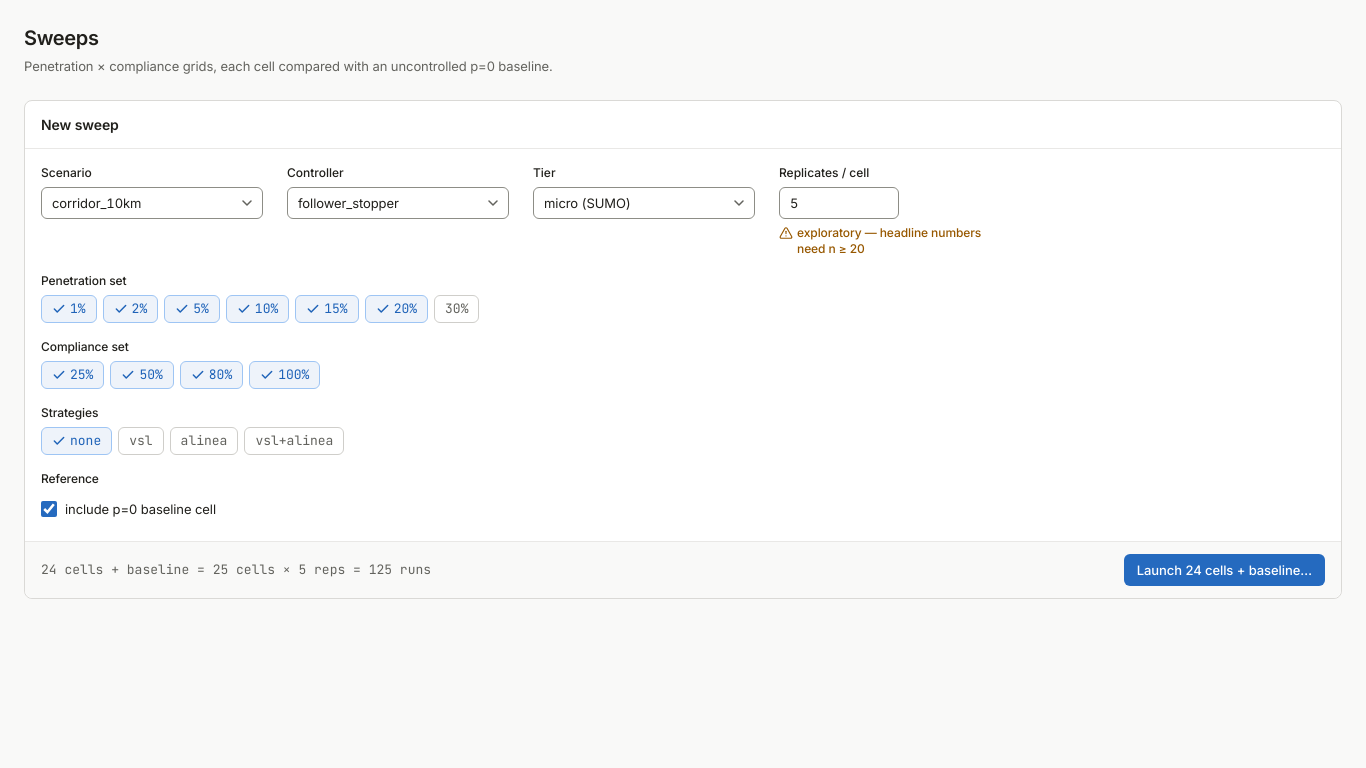
Test: SweepsView with the API offline › refuses a sweep confirmed after the API went away, and shows no demo matrix
Step 1. Click the button "Launch 24 cells + baseline…" → (1224, 570), box [1124,554,1325,586]
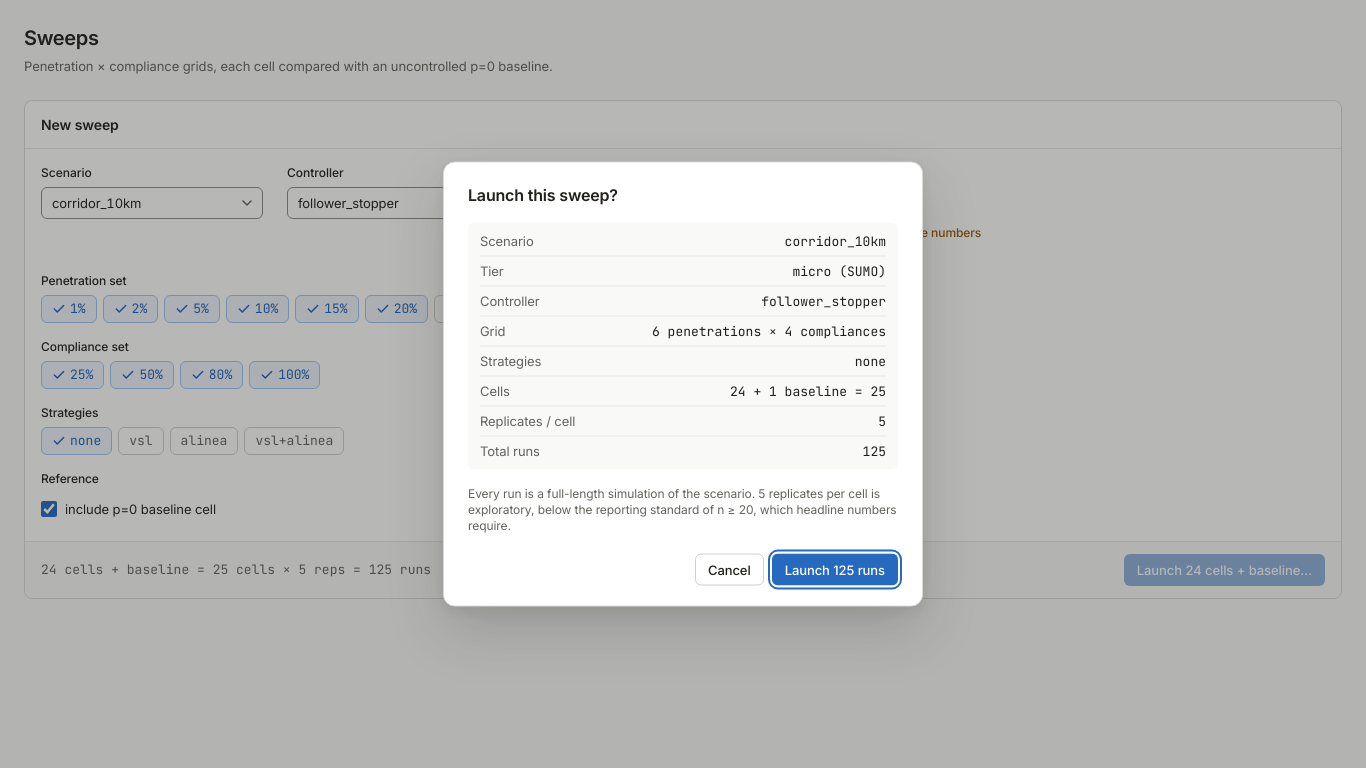
Step 2. Click the button "Launch 125 runs" → (835, 570), box [772,554,898,586]
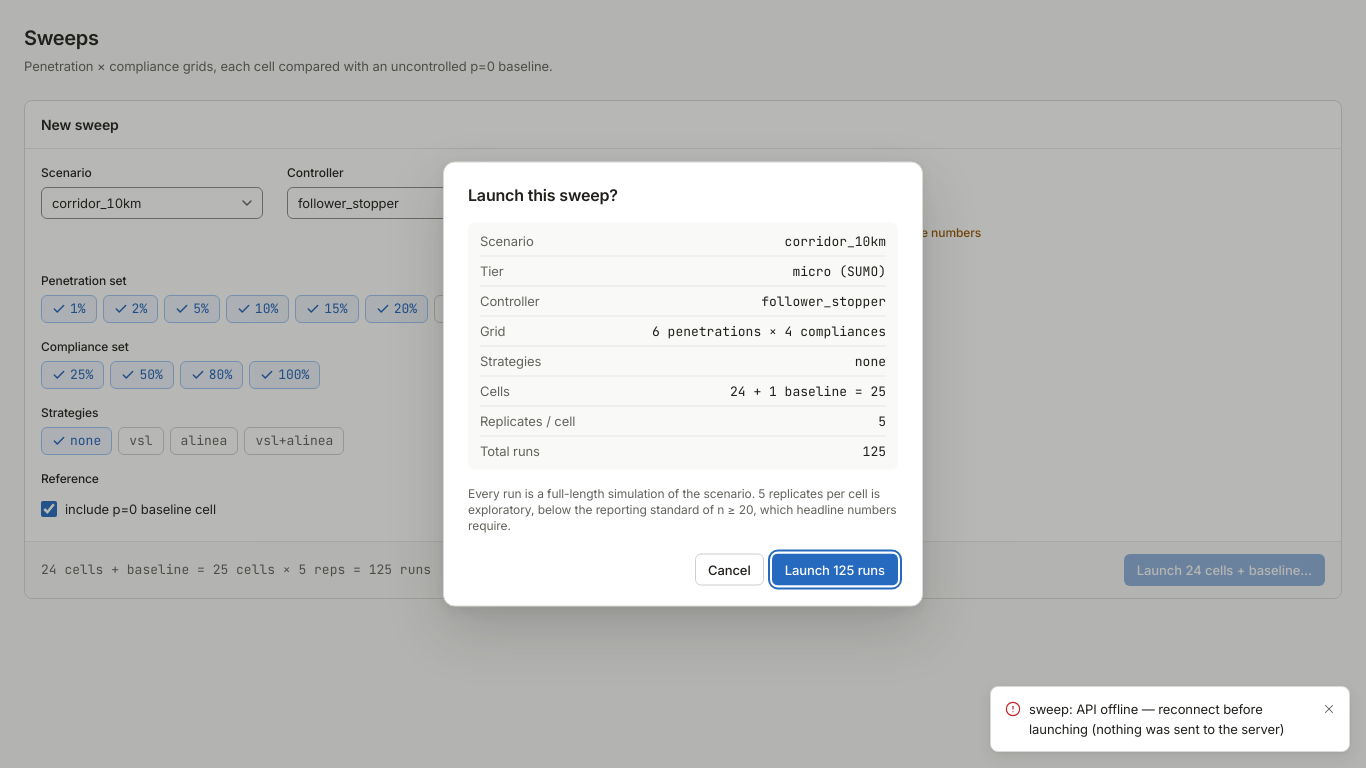
Now the button "Launch 24 cells + baseline…" is disabled, box [1124,554,1325,586]
Now the text "API offline" is shown, box [1029,701,1284,737]
